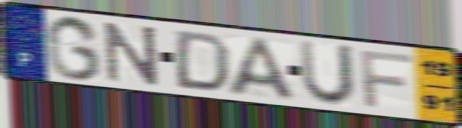A: (225, 35, 301, 104)
D: (172, 29, 233, 94)
F: (357, 48, 415, 109)
G: (44, 13, 104, 82)
N: (101, 20, 162, 88)
U: (297, 38, 358, 108)
